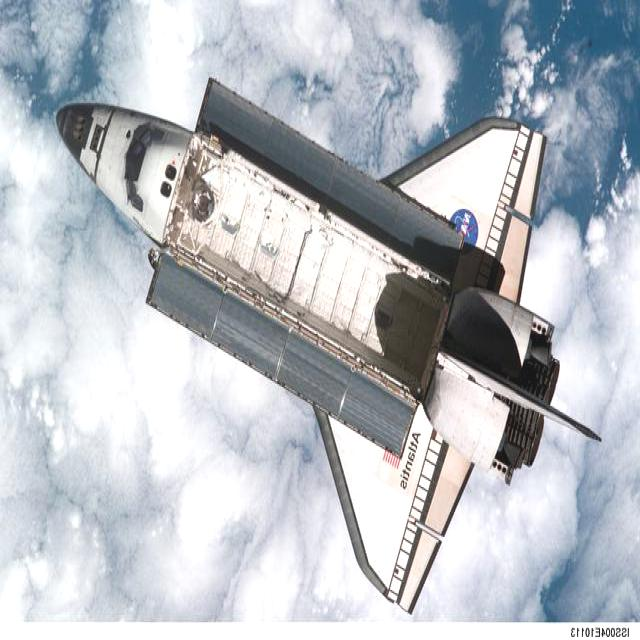medium_debris: (58, 79, 598, 610)
